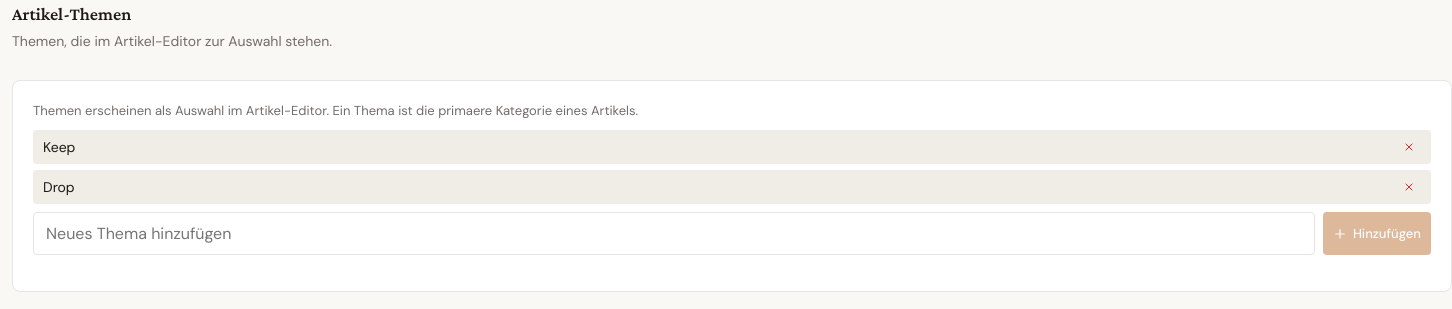
Test case: TopicsSettings › auto-saves immediately when a topic is removed
Click the button with test id "topic-remove-1": (1409, 187) [1397,179,1421,195]
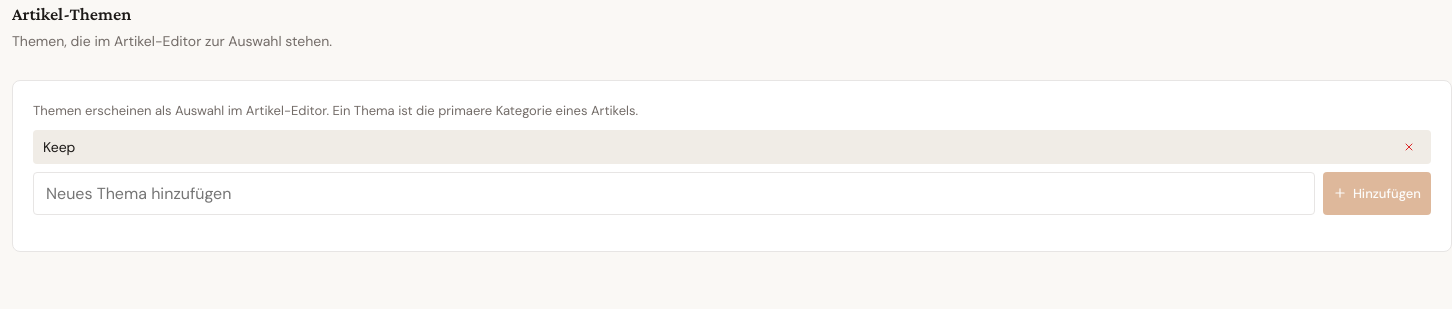
Result: the element with test id "topic-row-1" is gone
